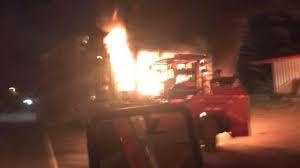fire: (99, 13, 174, 96)
